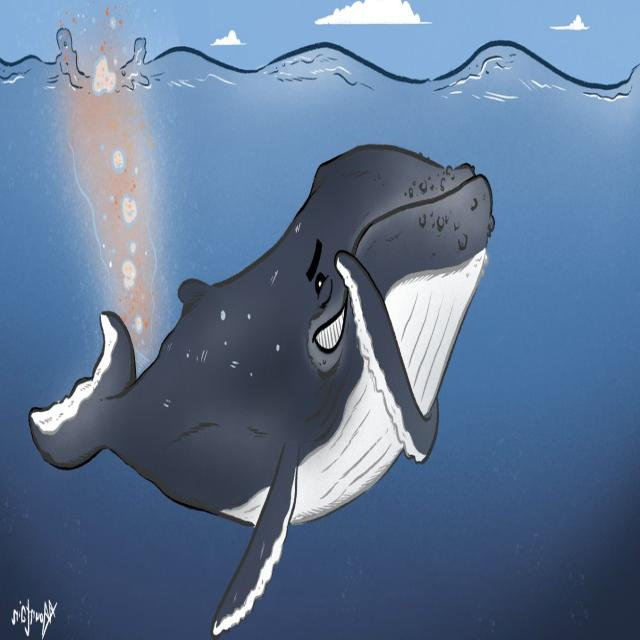whale: (29, 145, 495, 636)
